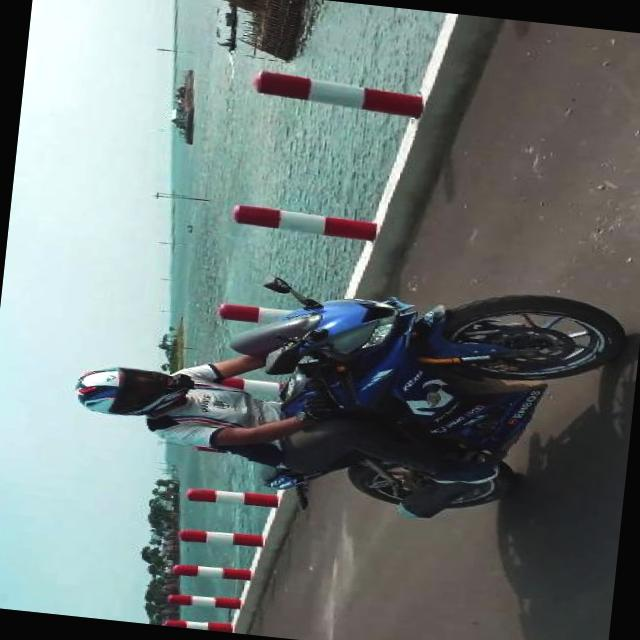motorcycle: (68, 248, 632, 536)
